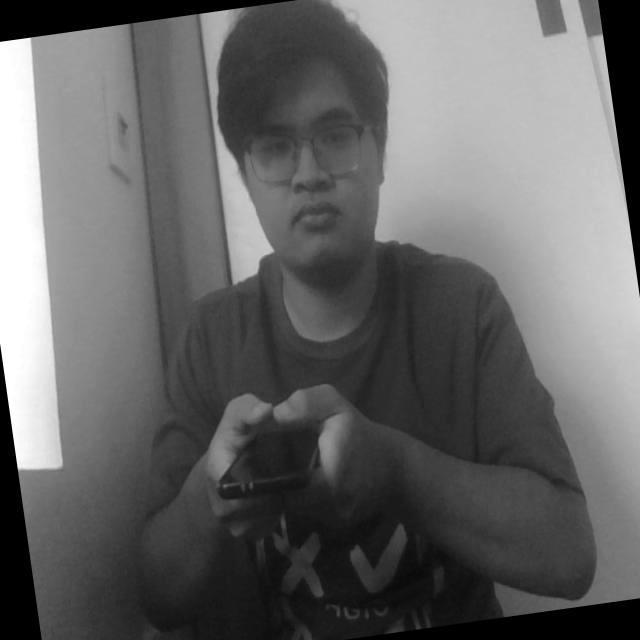phone: (198, 377, 354, 528)
